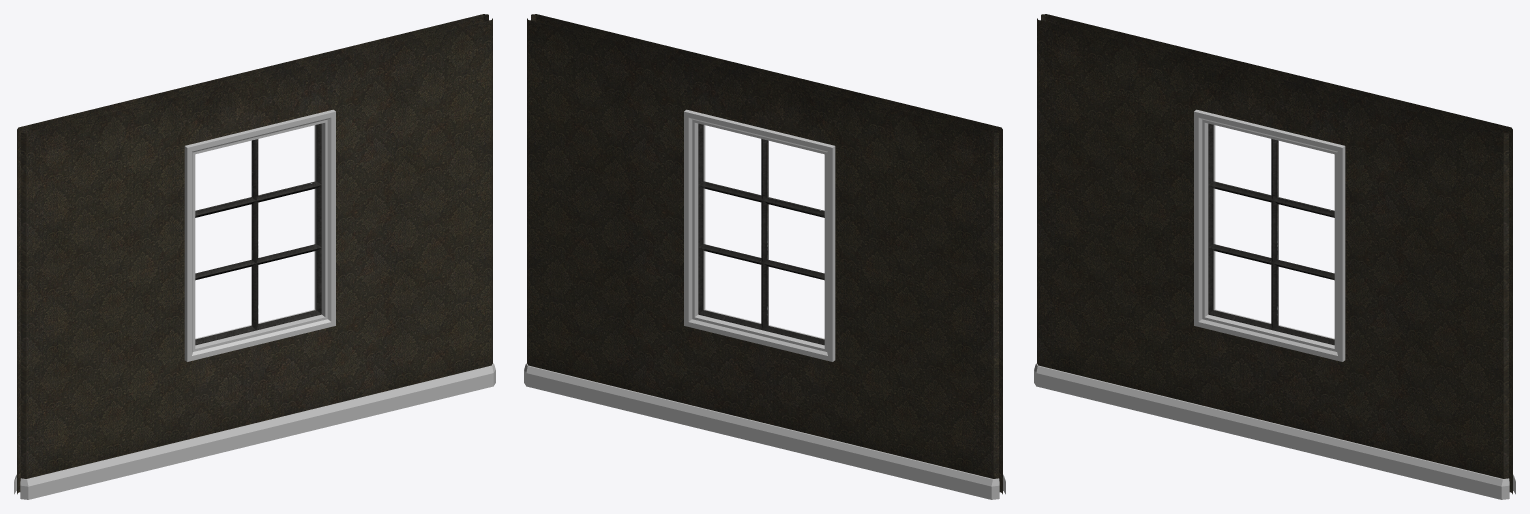
Rendered from window_2_2_single_no_glass.fbx.
The picture shows the model from 3 angles, left to right: view 1: azimuth 30°, elevation 25°; view 2: azimuth 150°, elevation 25°; view 3: azimuth 330°, elevation 25°; orthographic projection.
Parts seen in each view (by area): view 1: window_2_2_single_no_glass; view 2: window_2_2_single_no_glass; view 3: window_2_2_single_no_glass.
Part boxes in pixels (x1,y1,x2,y2): window_2_2_single_no_glass: (14, 14, 495, 499); window_2_2_single_no_glass: (524, 14, 1005, 499); window_2_2_single_no_glass: (1034, 14, 1515, 499).
Size of the model in its own units: 4.09 by 0.2 by 3.
